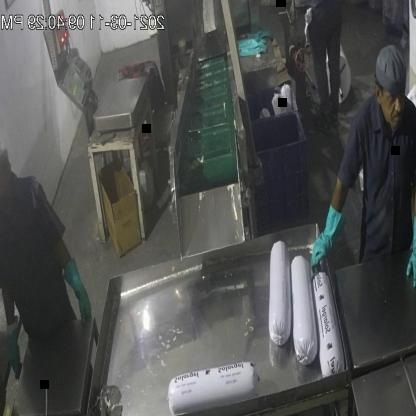glove: (303, 189, 347, 274), (61, 254, 94, 330), (5, 312, 28, 382), (406, 214, 416, 294)
